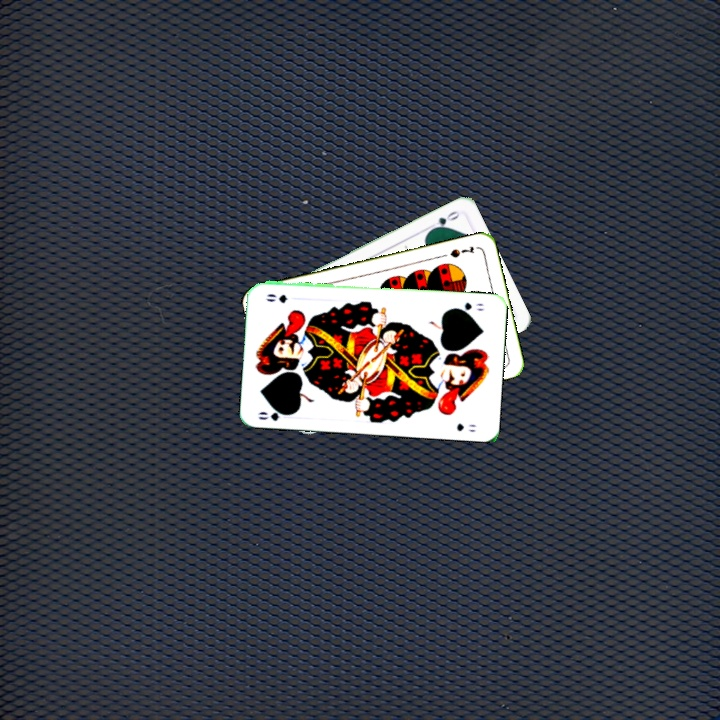GO: (424, 207, 462, 234), (254, 404, 295, 423), (450, 298, 487, 315)
S7: (446, 242, 476, 260)
